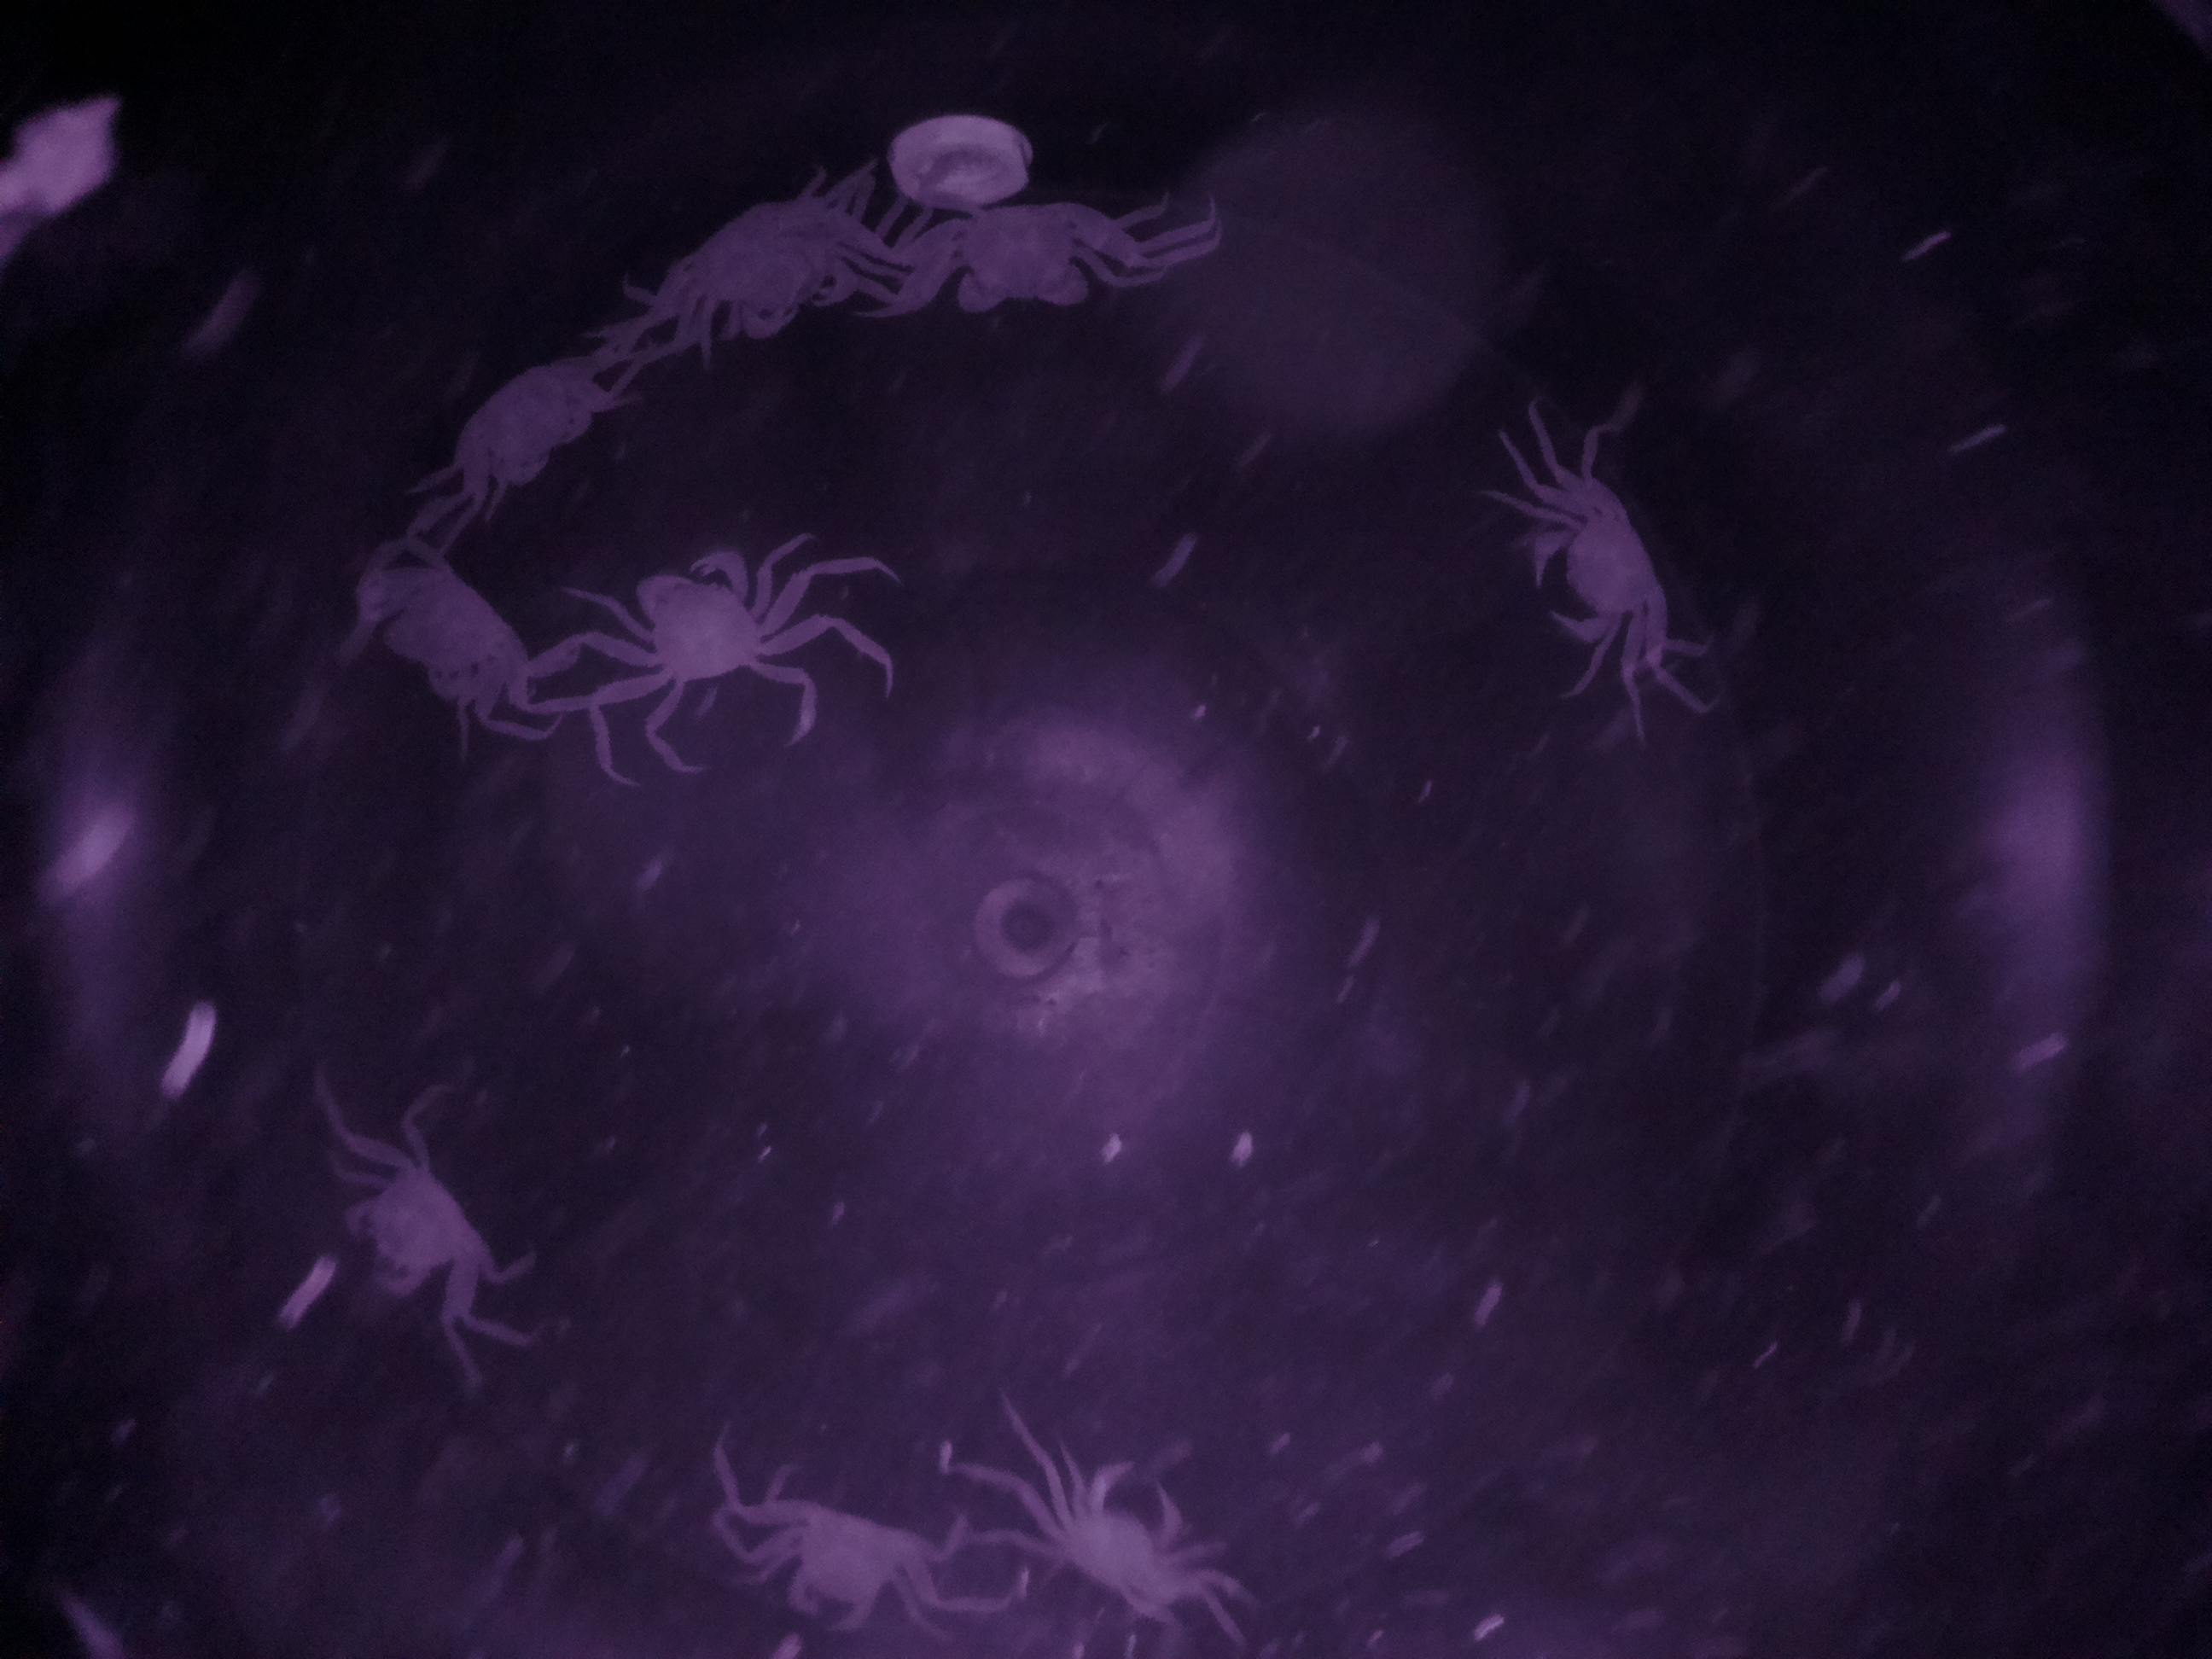Crab: (597, 540, 806, 727), (1510, 481, 1686, 674), (1038, 1436, 1195, 1631), (320, 1141, 493, 1314), (928, 183, 1115, 328), (758, 1485, 914, 1650)
